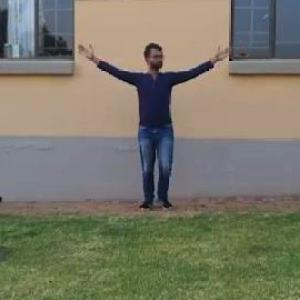takeoff: (84, 38, 239, 203)
